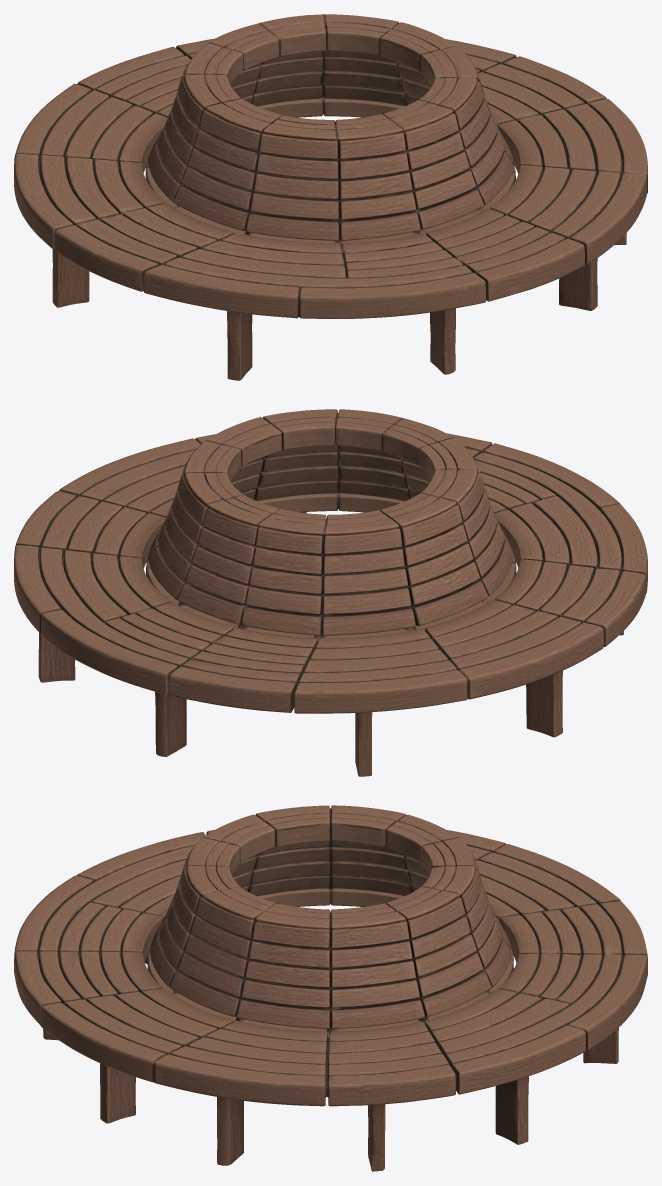
The model's file is treebench_open.glb.
3 renders of one model, top to bottom at view 1: azimuth 30°, elevation 25°; view 2: azimuth 150°, elevation 25°; view 3: azimuth 270°, elevation 25°, orthographic.
Parts seen in each view (by area): view 1: tripo_node_1c33e409-3047-463b-b077-431a1b02eb39; view 2: tripo_node_1c33e409-3047-463b-b077-431a1b02eb39; view 3: tripo_node_1c33e409-3047-463b-b077-431a1b02eb39.
Boxes of the visible parts, x1=… form: tripo_node_1c33e409-3047-463b-b077-431a1b02eb39: x1=14, y1=14, x2=647, y2=380; tripo_node_1c33e409-3047-463b-b077-431a1b02eb39: x1=14, y1=409, x2=647, y2=776; tripo_node_1c33e409-3047-463b-b077-431a1b02eb39: x1=14, y1=805, x2=647, y2=1171.
Size of the model in its own units: 2.48 by 0.8 by 2.49.
1 material, 1 textured.
